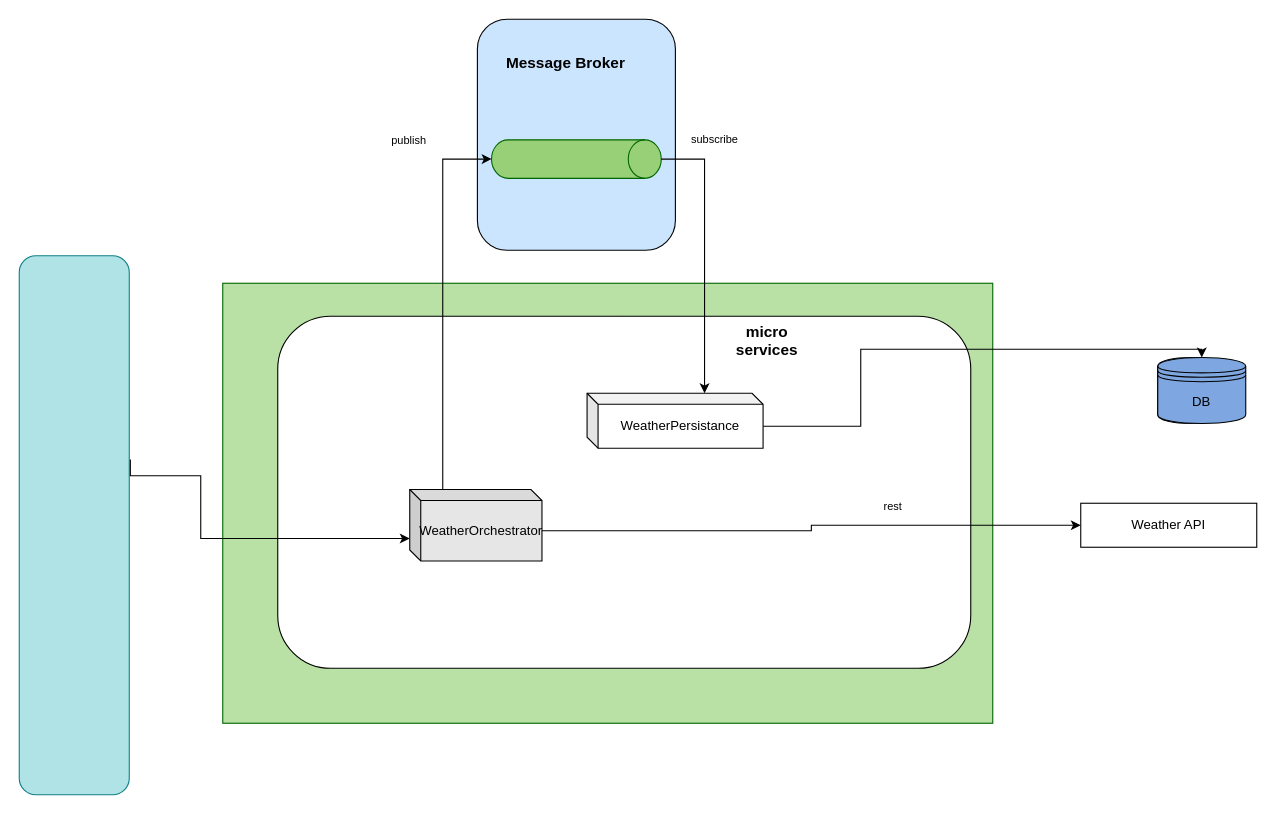
Image size: 1276x839. Some labels were removed from this diagram. The centre of each missing label's shape, as x and y in pixels:
event-process: the point at 575,158
web client: the point at 73,525
